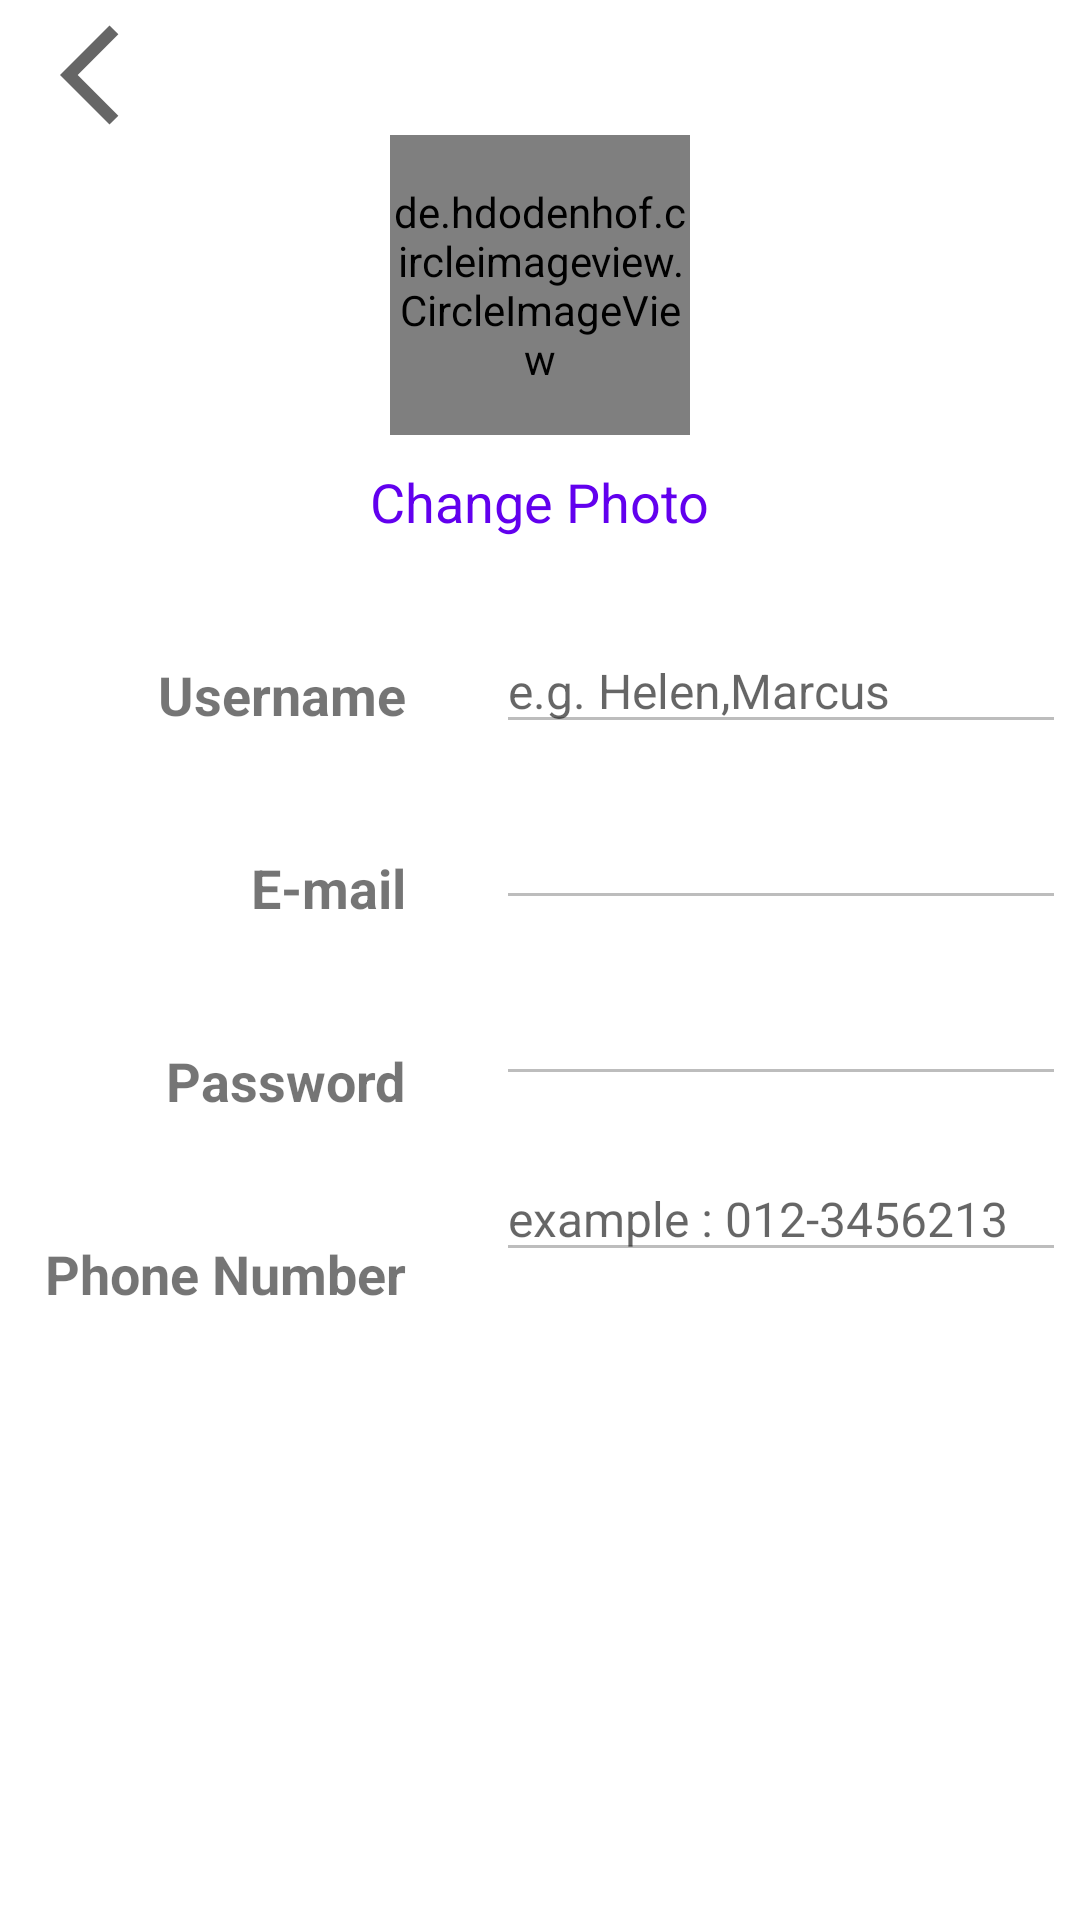

Where icons sit on this 1080 × 1920 app screen, as (x1, y1, x2, y2):
back: (60, 25, 118, 125)
